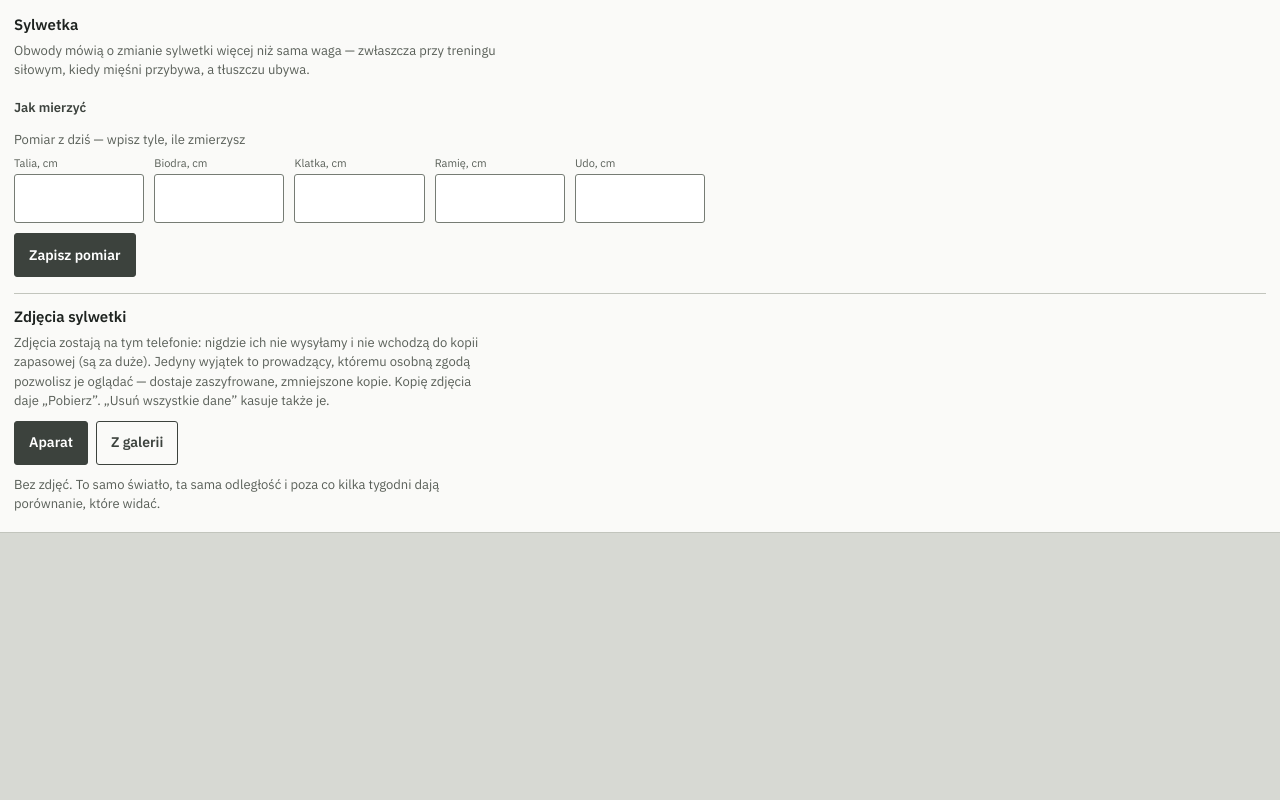
Test case: Profil → Sylwetka: obwody › podpowiedź pomiaru: talia według WHO, rano, na wydechu
Click the heading "Jak mierzyć" at (50, 107), box [14,99,86,116]
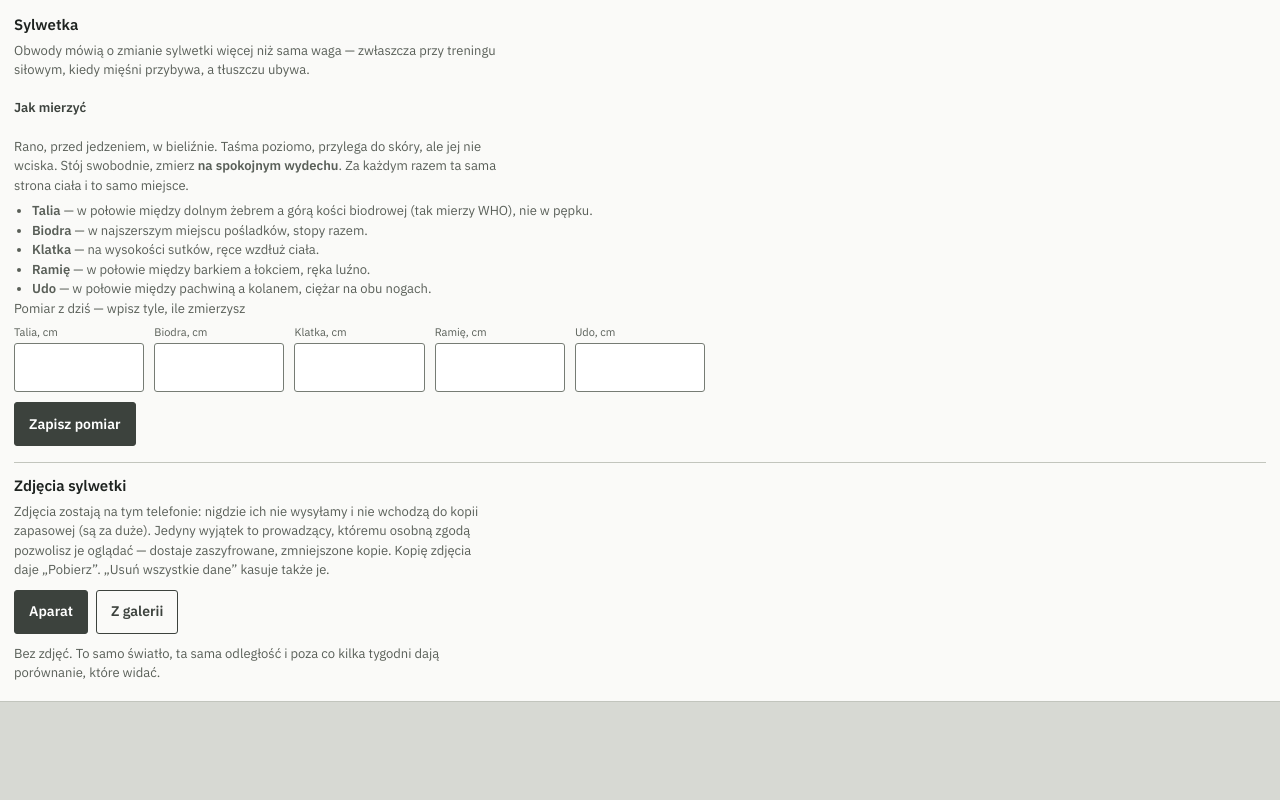
expect the list item "między dolnym żebrem a górą kości biodrowej (tak mierzy WHO)" is shown: met, box [61,202,593,219]
expect the text "na spokojnym wydechu" is shown: met, box [198,157,338,174]
expect the text "Rano" is shown: met, box [14,138,481,174]
